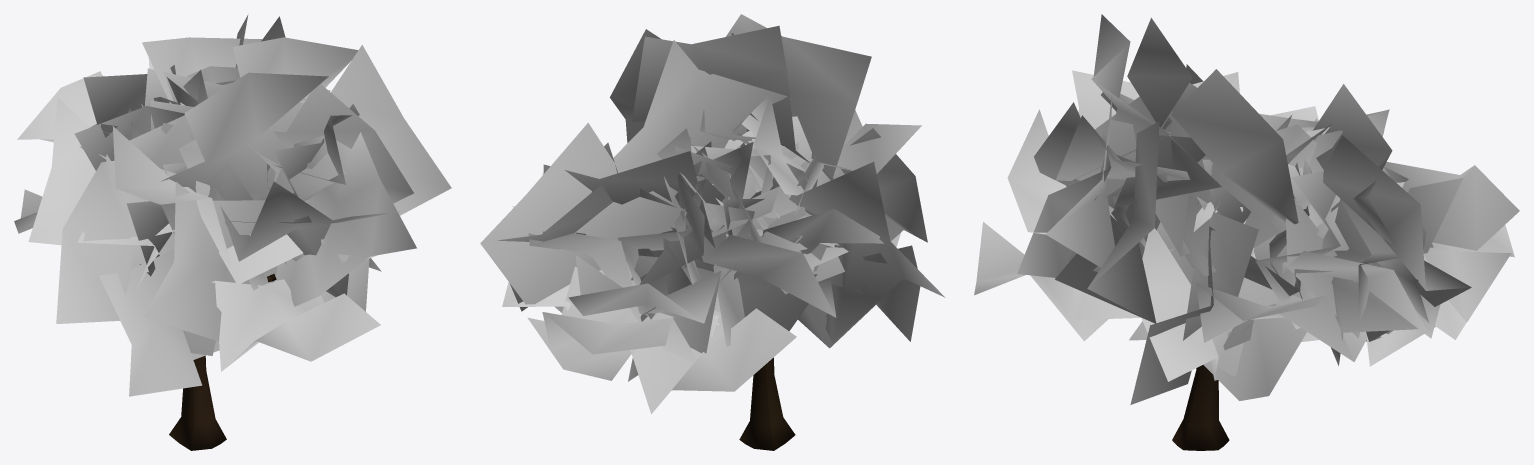
File: card_tree.fbx
The picture shows the model from 3 angles, left to right: view 1: azimuth 30°, elevation 25°; view 2: azimuth 150°, elevation 25°; view 3: azimuth 270°, elevation 25°; orthographic projection. The views are drawn at different scales.
Parts seen in each view (by area): view 1: Plane.060; view 2: Plane.060; view 3: Plane.060.
Part boxes in pixels (x1,y1,x2,y2): Plane.060: [14, 14, 451, 450]; Plane.060: [480, 14, 945, 450]; Plane.060: [974, 14, 1519, 450].
Bounding box in the file's own units: 1728 × 1810 × 2085.
